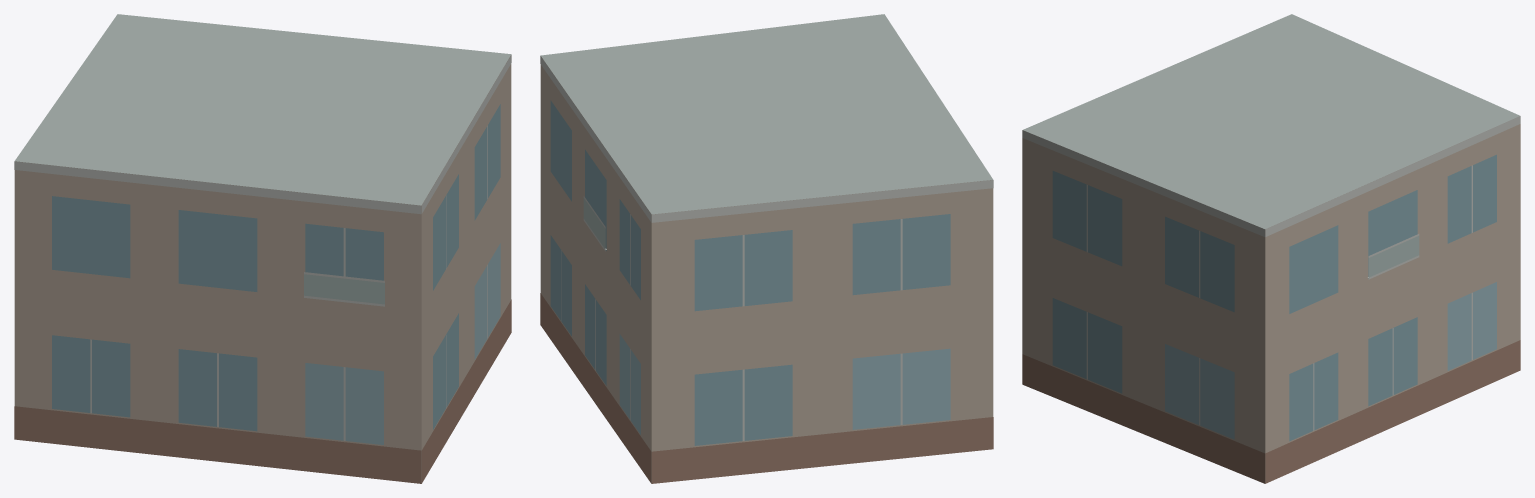
Rendered from survey-upis-32886908.glb.
3 views of the same model, side by side, from view 1: azimuth 30°, elevation 25°; view 2: azimuth 150°, elevation 25°; view 3: azimuth 270°, elevation 25° (orthographic). The views are drawn at different scales.
Parts seen in each view (by area): view 1: survey-upis-32886908.tmp; view 2: survey-upis-32886908.tmp; view 3: survey-upis-32886908.tmp.
Boxes of the visible parts, x1,y1,x2,y2 form: survey-upis-32886908.tmp: (14,14,511,483); survey-upis-32886908.tmp: (540,14,993,483); survey-upis-32886908.tmp: (1022,14,1520,483).
Bounding box in the file's own units: 14.16 × 7.8 × 13.84.
